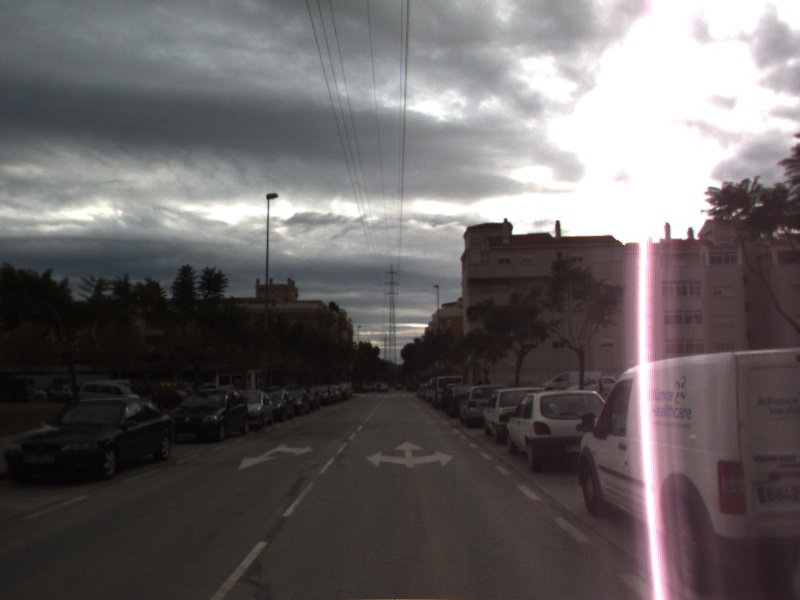STRAIGHT_LEFT_RIGHT: (363, 439, 456, 469)
